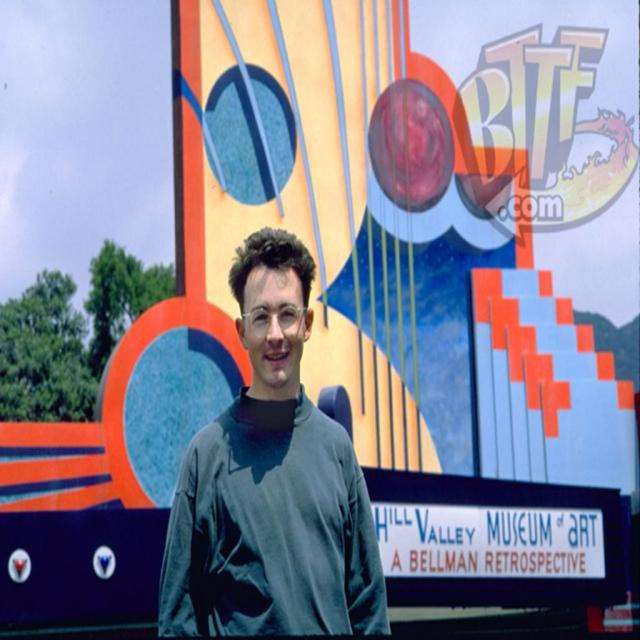Face: (244, 259, 305, 391)
